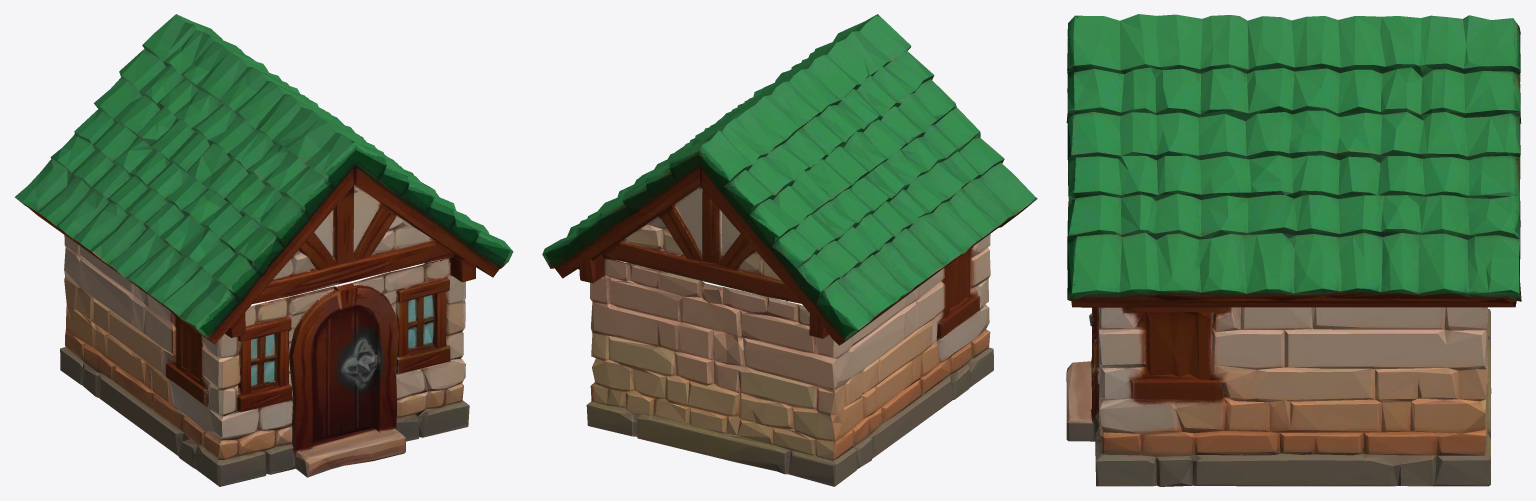
The model's file is fantasy_cottage.glb.
3 views of the same model, side by side, from view 1: azimuth 30°, elevation 25°; view 2: azimuth 150°, elevation 25°; view 3: azimuth 270°, elevation 25° (orthographic). The views are drawn at different scales.
Size of the model in its own units: 1.98 by 1.91 by 1.97.
Materials: 1 (1 with a texture image).
